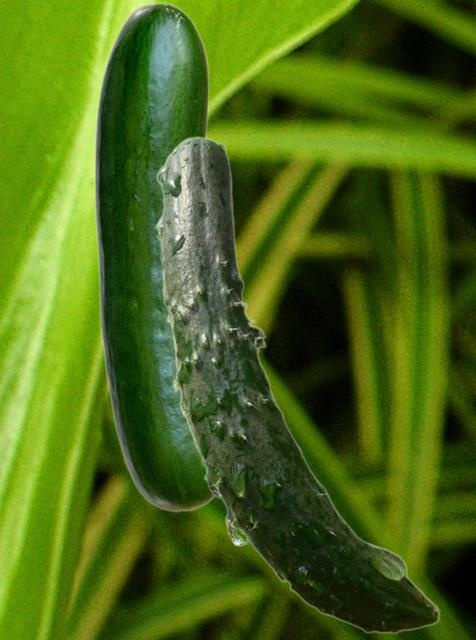cucumber: (154, 136, 439, 633), (93, 1, 214, 511)
